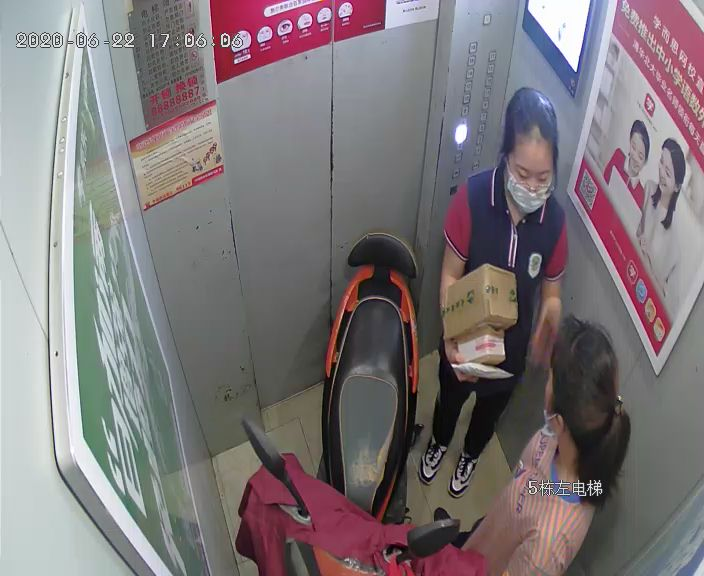Electric-bicycle: (247, 227, 459, 575)
